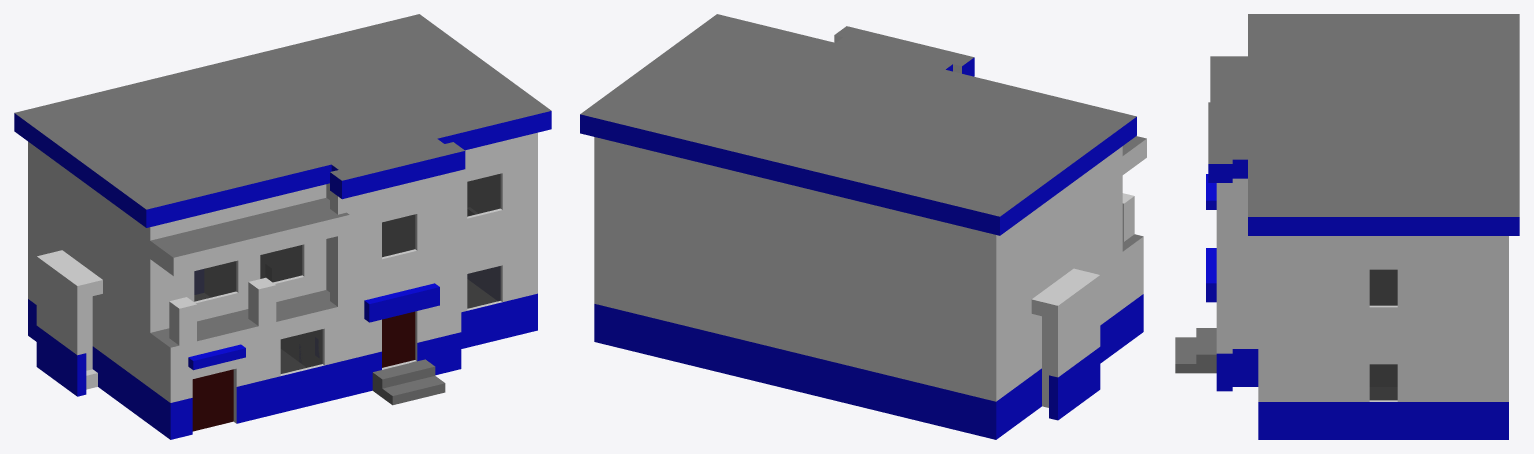
The picture shows the model from 3 angles, left to right: view 1: azimuth 30°, elevation 25°; view 2: azimuth 150°, elevation 25°; view 3: azimuth 270°, elevation 25°; orthographic projection. The views are drawn at different scales.
Visible parts, largest first — view 1: pCube3, pCube1, pCube2, pCube7, pCube8, pCube6, pCube5, pCube4; view 2: pCube3, pCube1, pCube2, pCube7, pCube5; view 3: pCube2, pCube3, pCube1, pCube8.
Part boxes in pixels (<box>): pCube3: <box>14,68,349,439</box>; pCube1: <box>199,42,465,398</box>; pCube2: <box>305,14,551,348</box>; pCube7: <box>36,250,102,396</box>; pCube8: <box>372,359,445,405</box>; pCube6: <box>248,277,276,326</box>; pCube5: <box>169,297,196,345</box>; pCube4: <box>188,344,245,370</box>; pCube3: <box>808,69,1146,439</box>; pCube1: <box>698,26,974,395</box>; pCube2: <box>580,14,835,368</box>; pCube7: <box>1031,268,1100,420</box>; pCube5: <box>1122,193,1134,241</box>; pCube2: <box>1248,159,1519,439</box>; pCube3: <box>1210,14,1519,106</box>; pCube1: <box>1206,102,1519,391</box>; pCube8: <box>1175,328,1216,373</box>.
Size of the model in its own units: 23.95 by 12 by 16.47.
